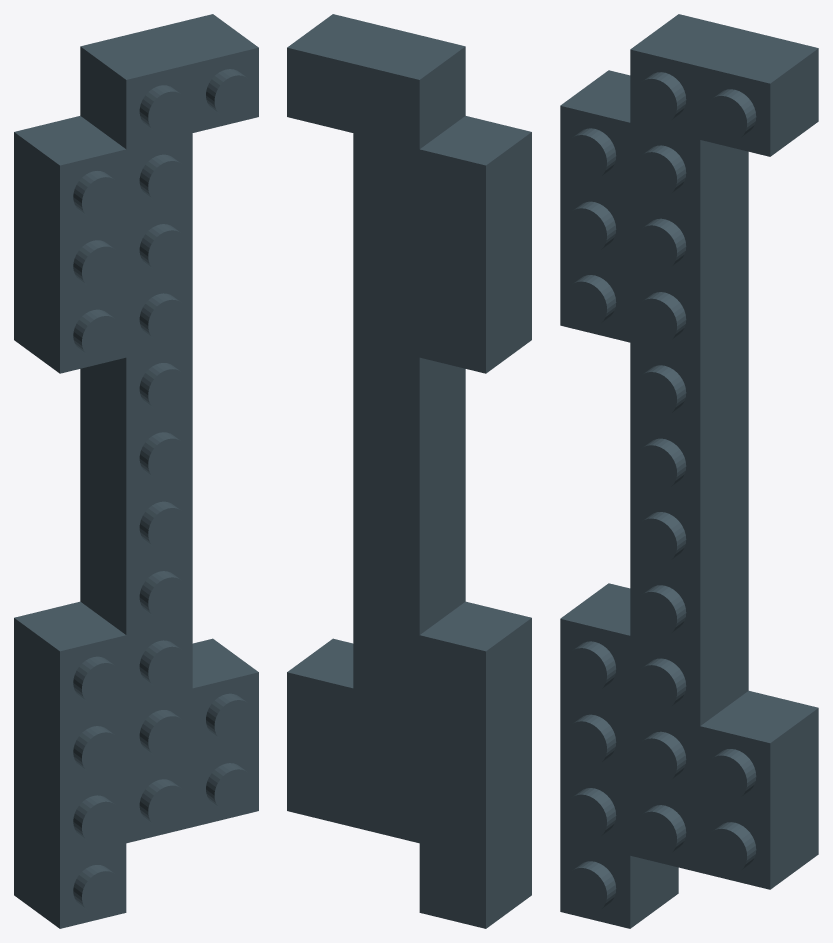
Rendered from current.glb.
3 views of the same model, side by side, from view 1: azimuth 30°, elevation 25°; view 2: azimuth 150°, elevation 25°; view 3: azimuth 330°, elevation 25° (orthographic). The views are drawn at different scales.
Visible parts, largest first — view 1: world; view 2: world; view 3: world.
Part boxes in pixels (x1,y1,x2,y2): world: (14,14,258,928); world: (287,14,531,928); world: (560,14,818,928).
Size of the model in its own units: 24 by 96 by 11.4.
